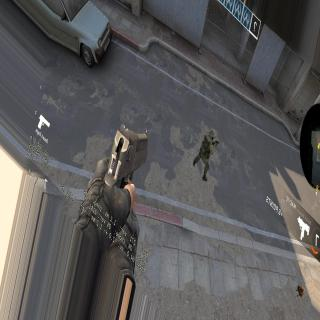CT-Body: (198, 127, 219, 178)
CT-Head: (209, 129, 217, 139)
